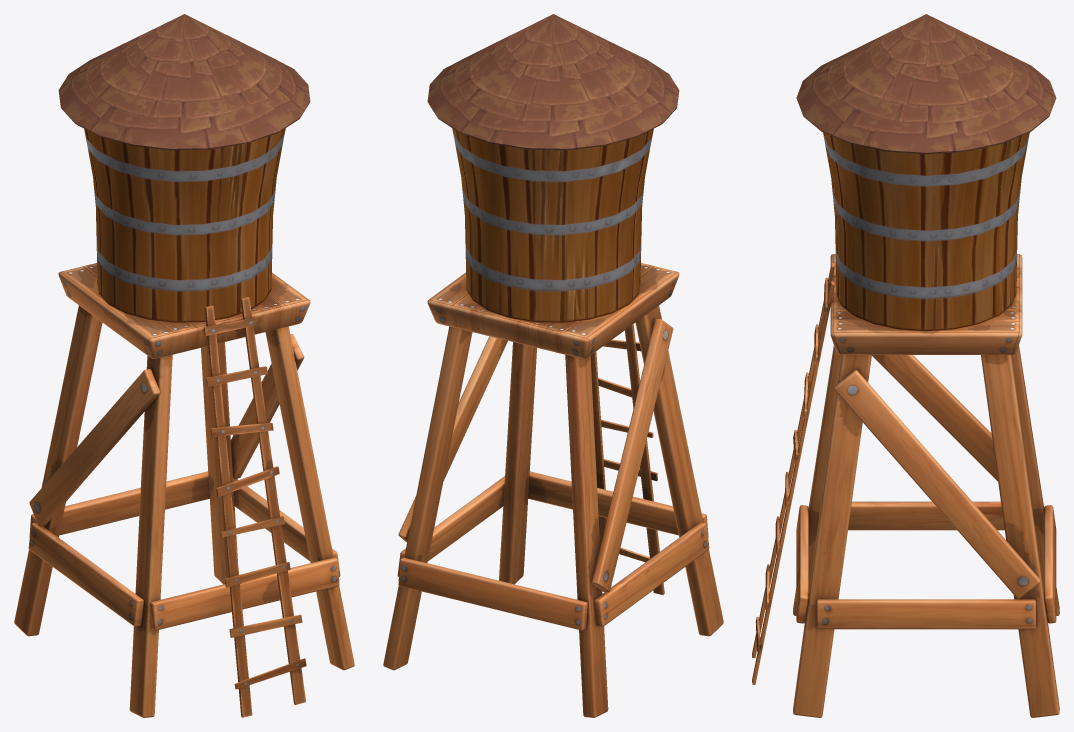
File: WaterTower02.FBX
3 renders of one model, left to right at view 1: azimuth 30°, elevation 25°; view 2: azimuth 150°, elevation 25°; view 3: azimuth 270°, elevation 25°, orthographic. The views are drawn at different scales.
Visible parts, largest first — view 1: WaterTower02; view 2: WaterTower02; view 3: WaterTower02.
Part boxes in pixels (left/top/right/bottom): WaterTower02: left=14, top=14, right=354, bottom=717; WaterTower02: left=383, top=14, right=723, bottom=717; WaterTower02: left=752, top=14, right=1059, bottom=717.
Size of what is drawn, in the model's own units: 2.37 by 6.57 by 2.8.
